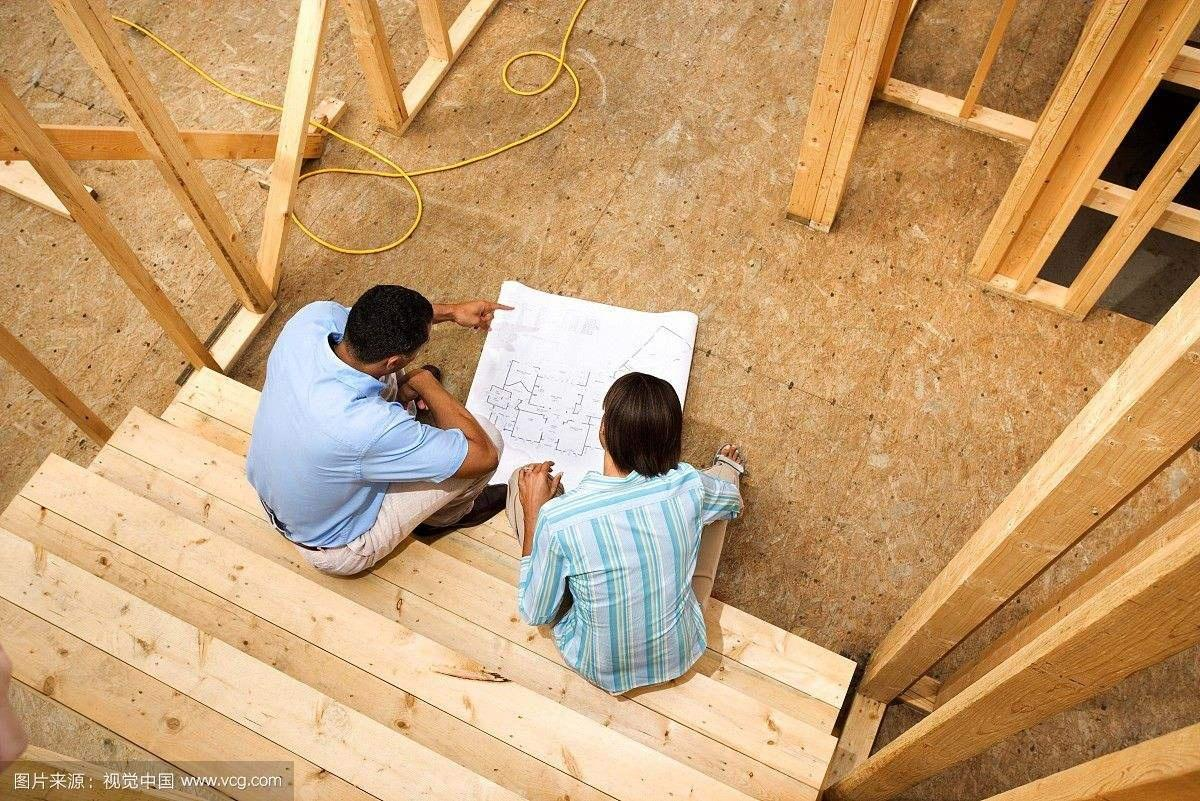NoHelmet: (580, 376, 690, 473), (341, 283, 439, 369)
